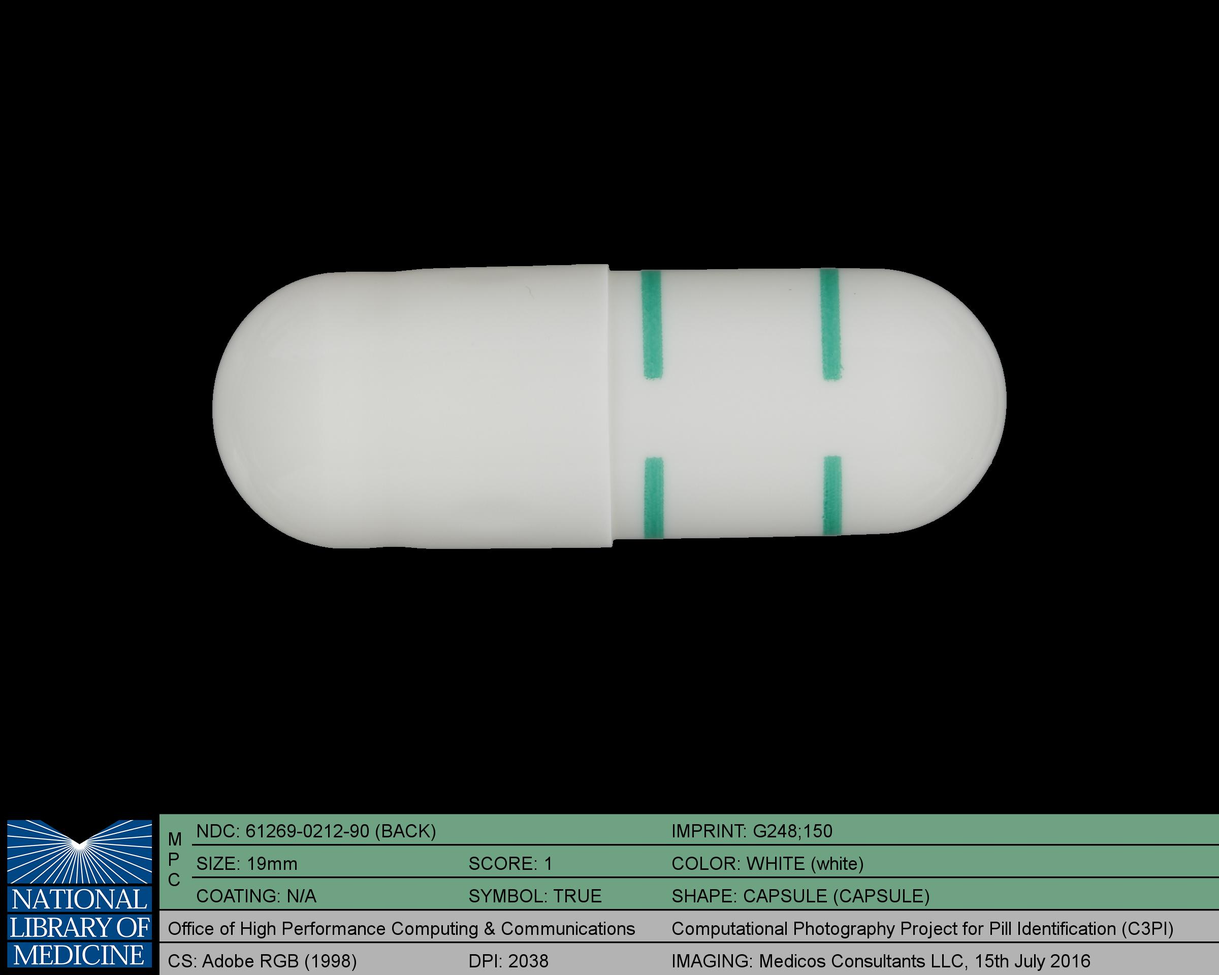Pill: (200, 247, 1019, 560)
